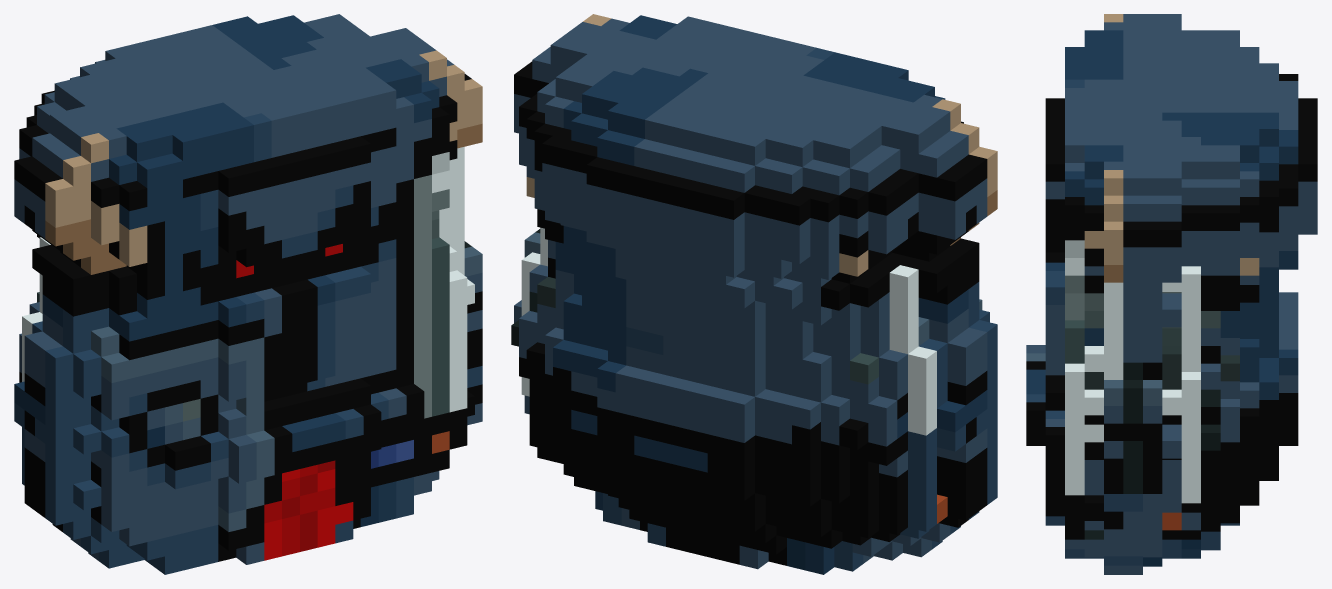
Rendered from Icon_742_02.obj.
3 renders of one model, left to right at view 1: azimuth 30°, elevation 25°; view 2: azimuth 150°, elevation 25°; view 3: azimuth 270°, elevation 25°, orthographic. The views are drawn at different scales.
Bounding box in the file's own units: 2.4 × 2.3 × 1.5.
1 material, 1 textured.
